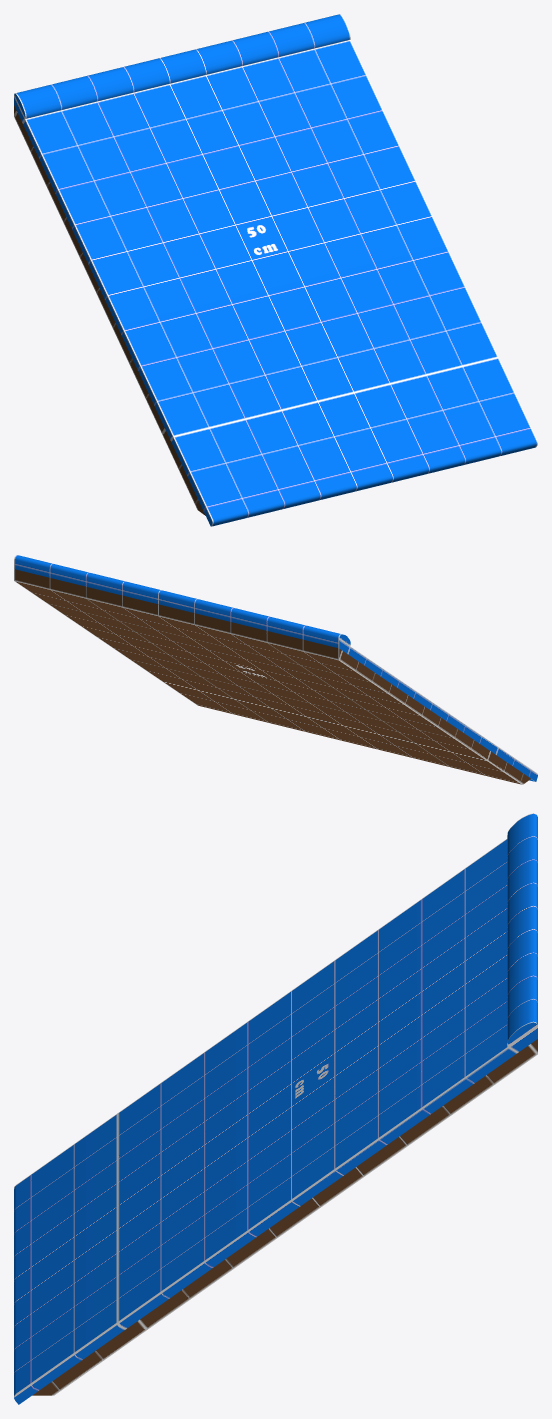
The model's file is M01Roof01_1.FBX.
The picture shows the model from 3 angles, top to bottom: view 1: azimuth 30°, elevation 25°; view 2: azimuth 150°, elevation 25°; view 3: azimuth 270°, elevation 25°; orthographic projection. The views are drawn at different scales.
Visible parts, largest first — view 1: M01Roof01_1; view 2: M01Roof01_1; view 3: M01Roof01_1.
Part boxes in pixels (bbox=[...]): M01Roof01_1: bbox=[14, 14, 537, 526]; M01Roof01_1: bbox=[14, 555, 537, 784]; M01Roof01_1: bbox=[14, 813, 537, 1404].
Size of what is drawn, in the model's own units: 4.5 by 3.84 by 4.76.
